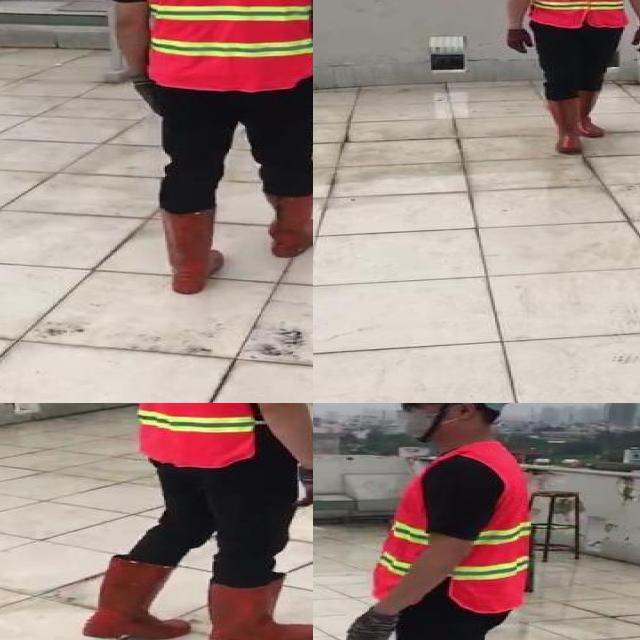boots: (80, 557, 190, 640), (210, 574, 313, 640), (160, 207, 222, 296), (261, 188, 313, 258), (546, 96, 584, 154), (576, 89, 610, 137)
face_mask: (389, 403, 453, 444)
hand_glove: (128, 68, 166, 115), (346, 611, 397, 640), (506, 26, 536, 55), (295, 465, 313, 506), (632, 26, 640, 54)
person: (102, 0, 313, 302), (60, 403, 313, 640), (336, 403, 583, 640), (503, 0, 640, 161)
vest: (371, 443, 527, 613), (134, 0, 313, 90), (118, 403, 260, 468), (534, 0, 626, 28)
